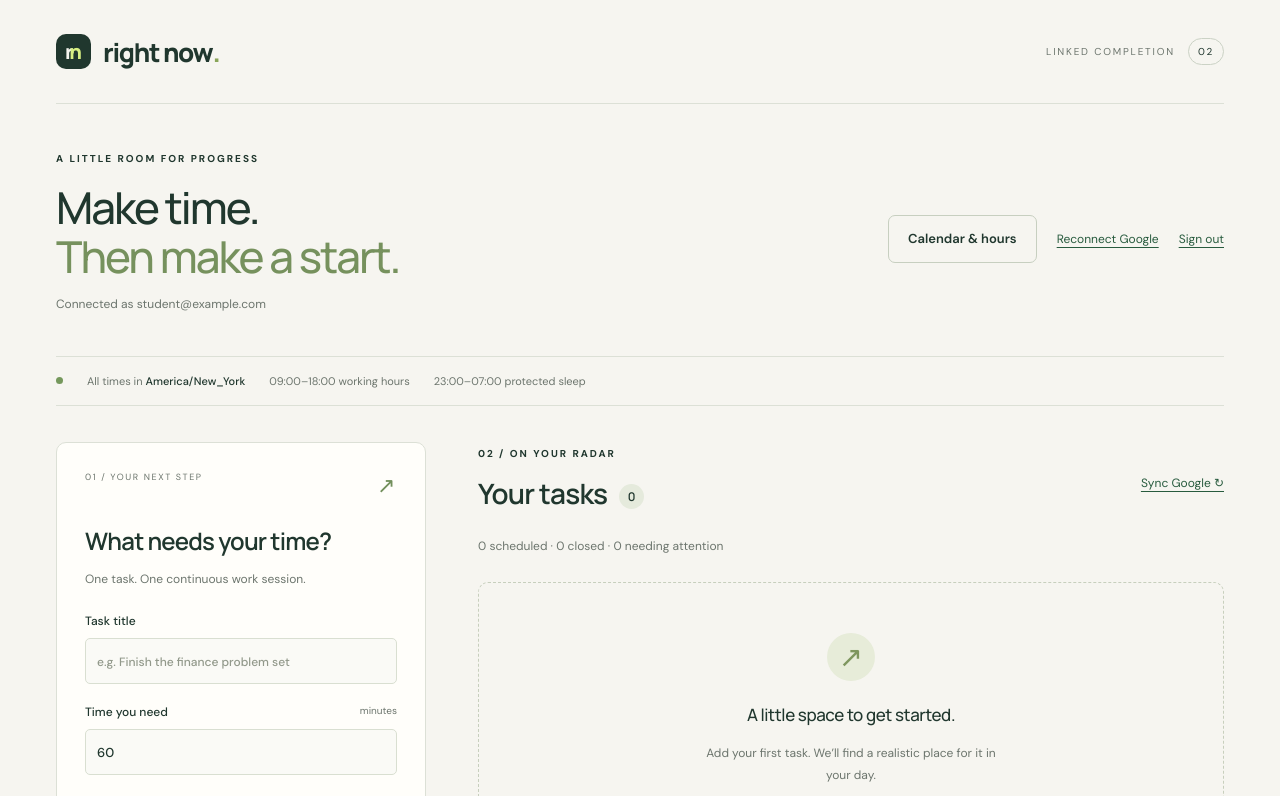
Test: Signed-in structured task form › keeps the request ID after an uncertain failure so a retry can recover
In the field labelled "Task title": (241, 661) 85,638 -> 397,684, type "Finance"
(page scrolled)
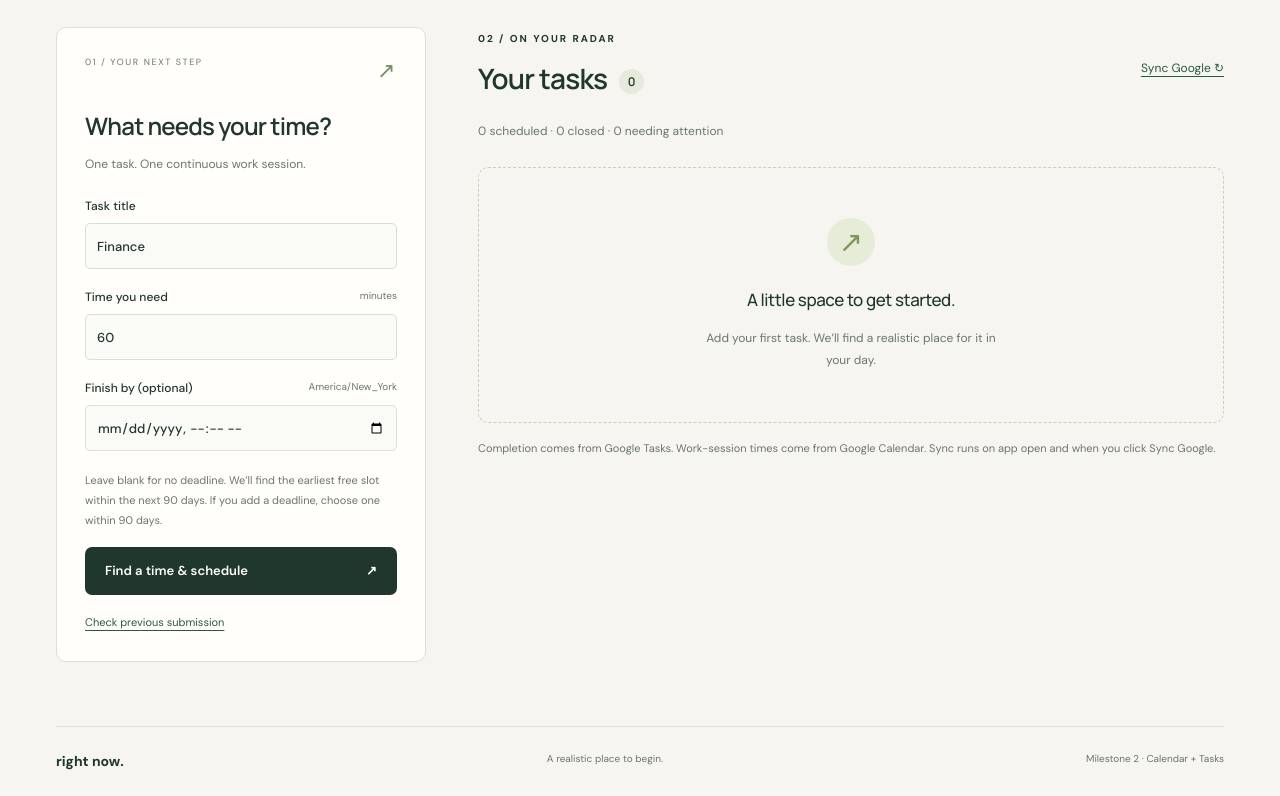
In the field labelled "Finish by (optional) America/New_York": (241, 428) 85,405 -> 397,451, type "2026-10-21T18:00"
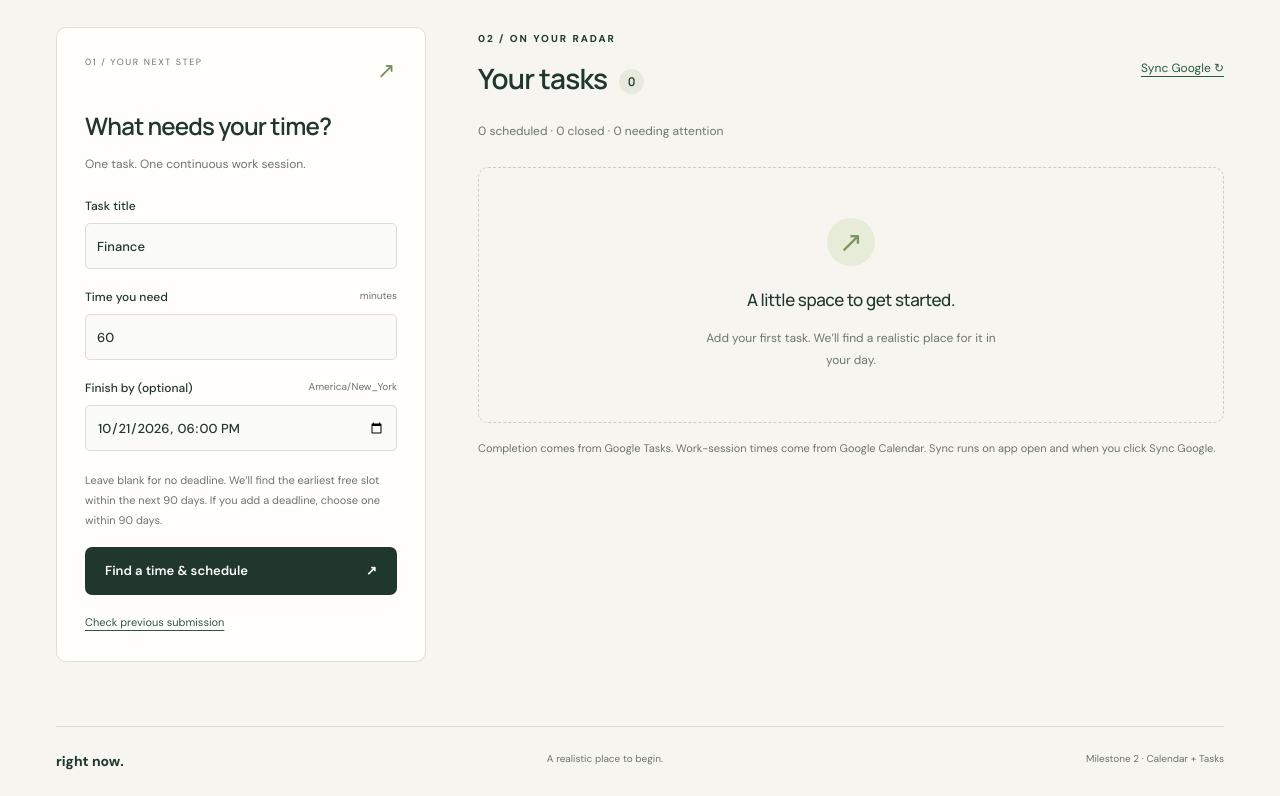
Submit the form named "Find a time", box 85,198 -> 397,595
(page scrolled)
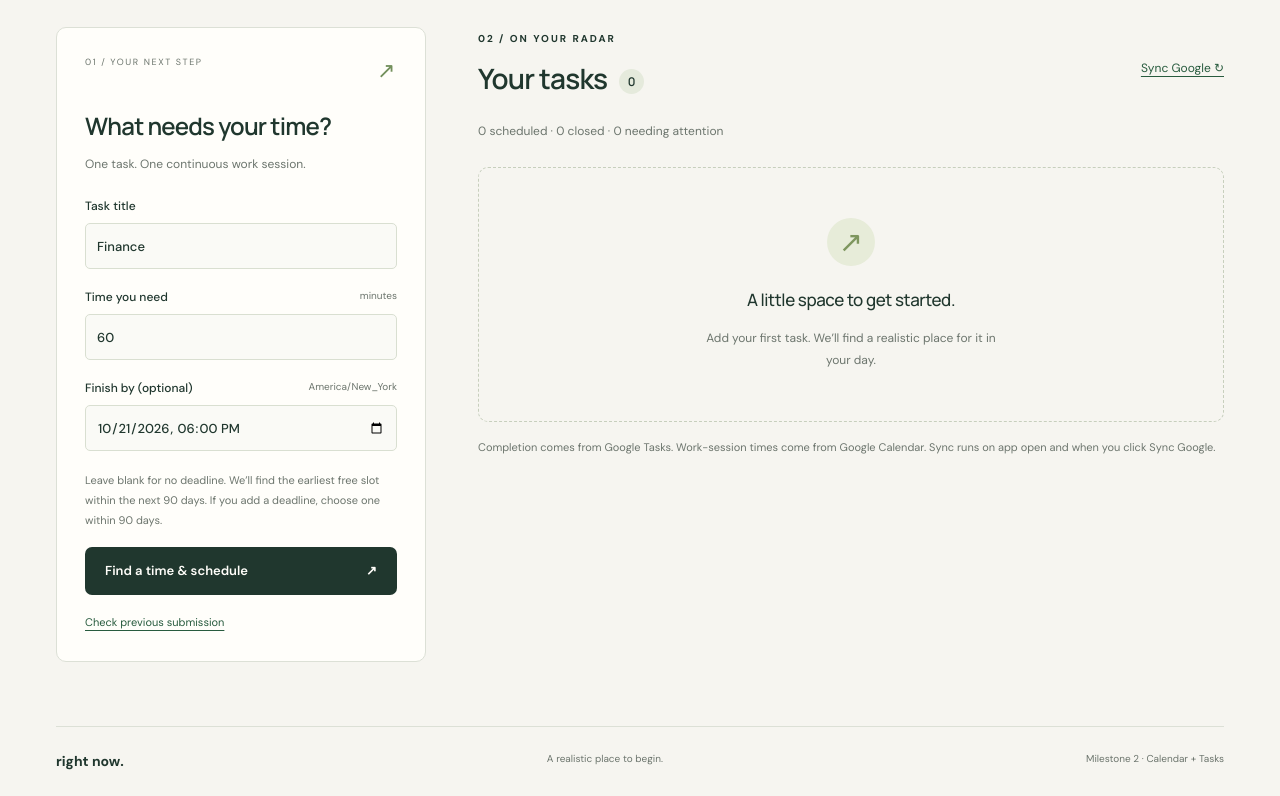
Click the button "Check previous submission": (155, 622) 85,610 -> 224,632
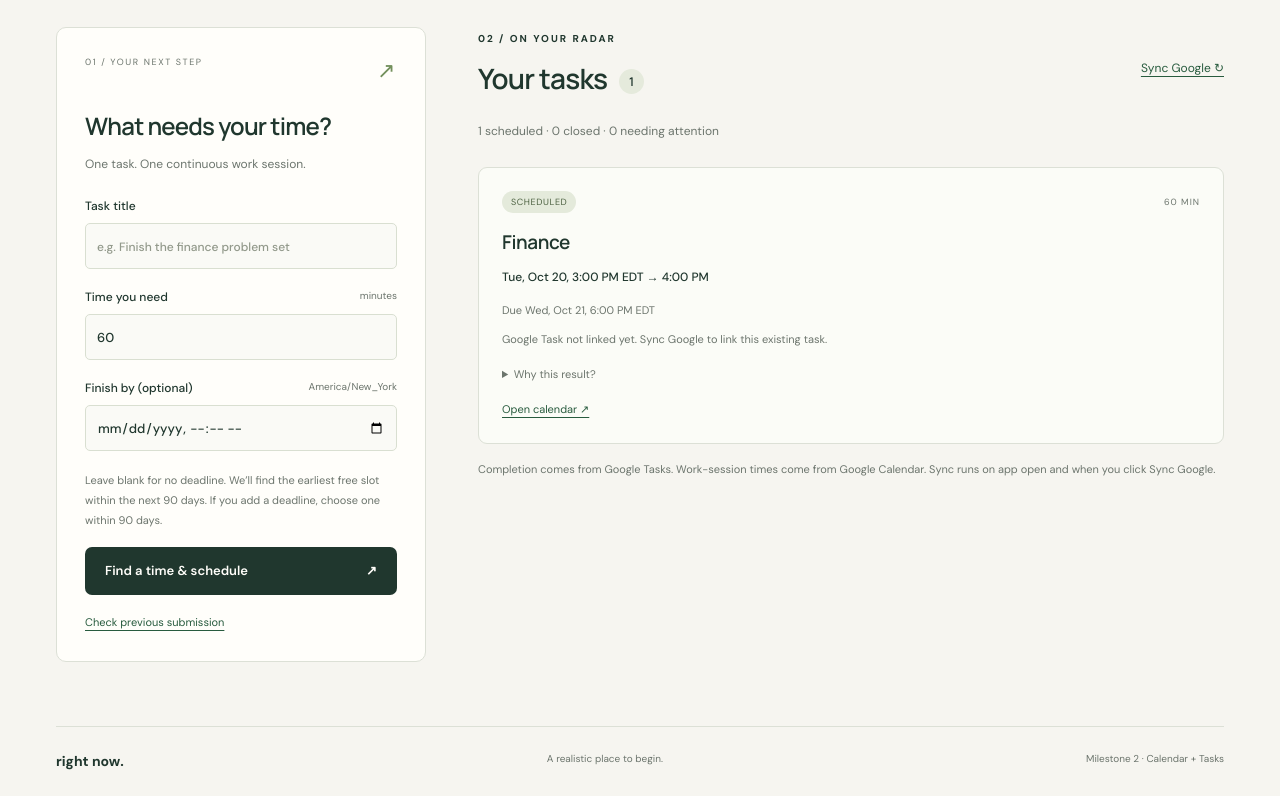
Expected: the heading "Finance" is shown, 502,229 -> 570,255
